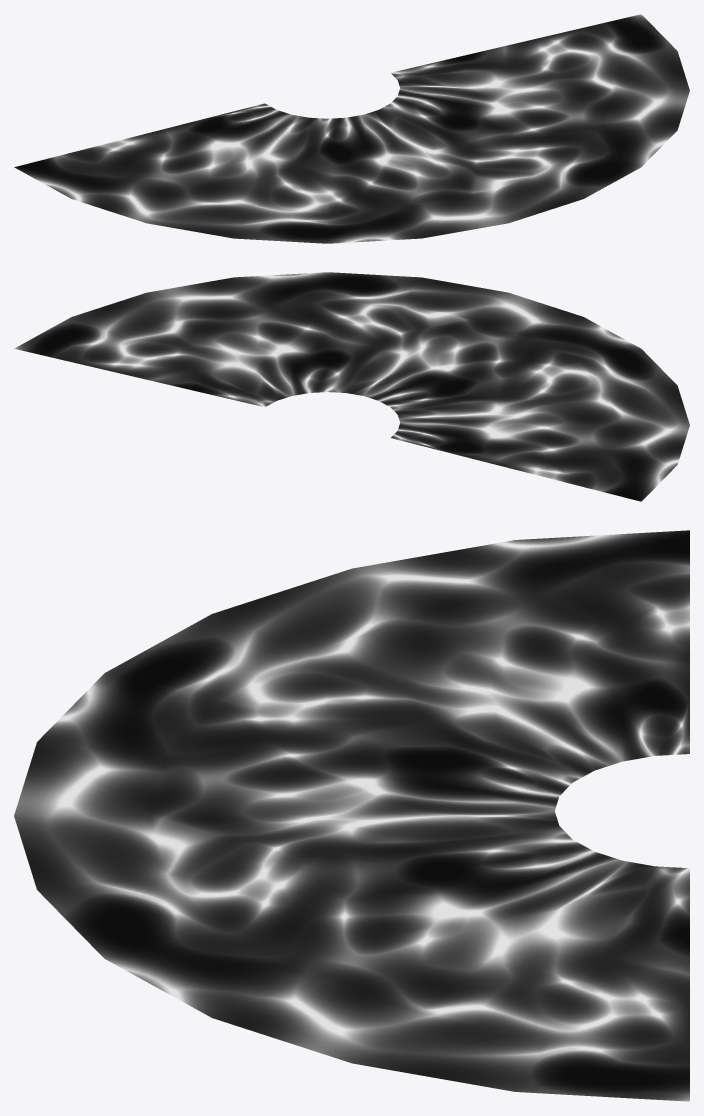
The model's file is caustic_mesh.FBX.
3 views of the same model, one above another, from view 1: azimuth 30°, elevation 25°; view 2: azimuth 150°, elevation 25°; view 3: azimuth 270°, elevation 25° (orthographic). The views are drawn at different scales.
Parts seen in each view (by area): view 1: Cone001; view 2: Cone001; view 3: Cone001.
Boxes of the visible parts, bbox=[...] form: Cone001: bbox=[14, 14, 689, 243]; Cone001: bbox=[14, 272, 689, 501]; Cone001: bbox=[14, 530, 689, 1101].
Bounding box in the file's own units: 486 × 1.93 × 243.
